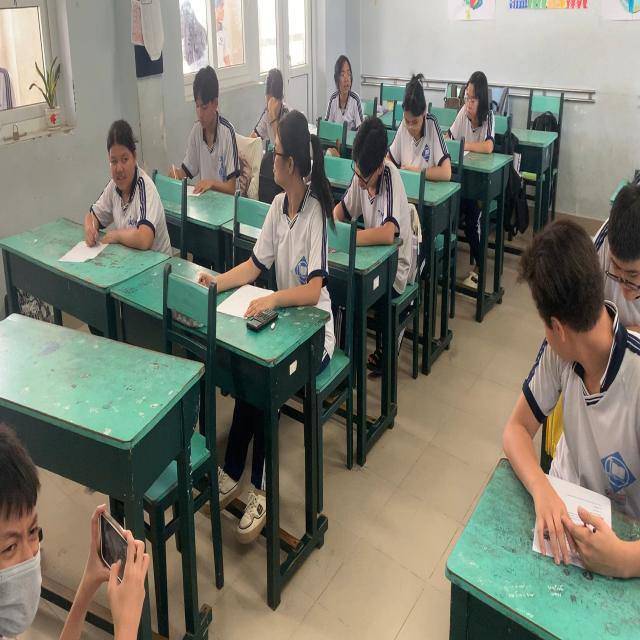cheating: (496, 233, 638, 578), (247, 126, 333, 294), (88, 102, 172, 257)
not_cheating: (173, 59, 240, 204), (329, 116, 391, 212), (395, 63, 442, 160), (242, 70, 296, 129), (450, 70, 494, 139), (323, 54, 358, 118)
